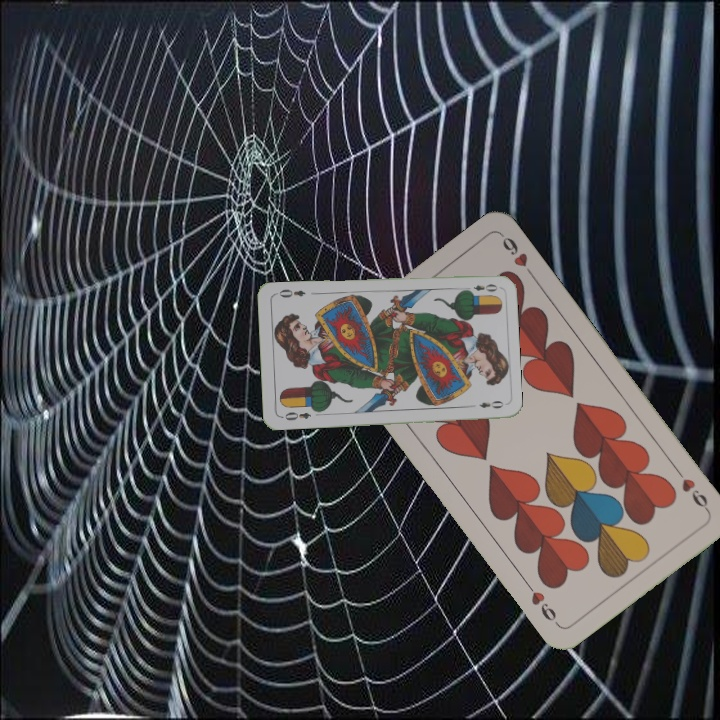EO: (460, 280, 500, 296), (277, 408, 313, 423)
H9: (671, 464, 712, 515)
